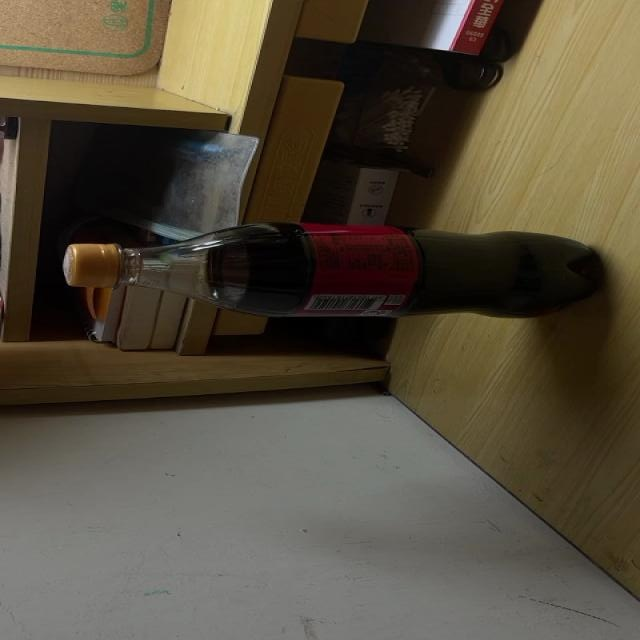Coca-Cola: (61, 224, 602, 320)
